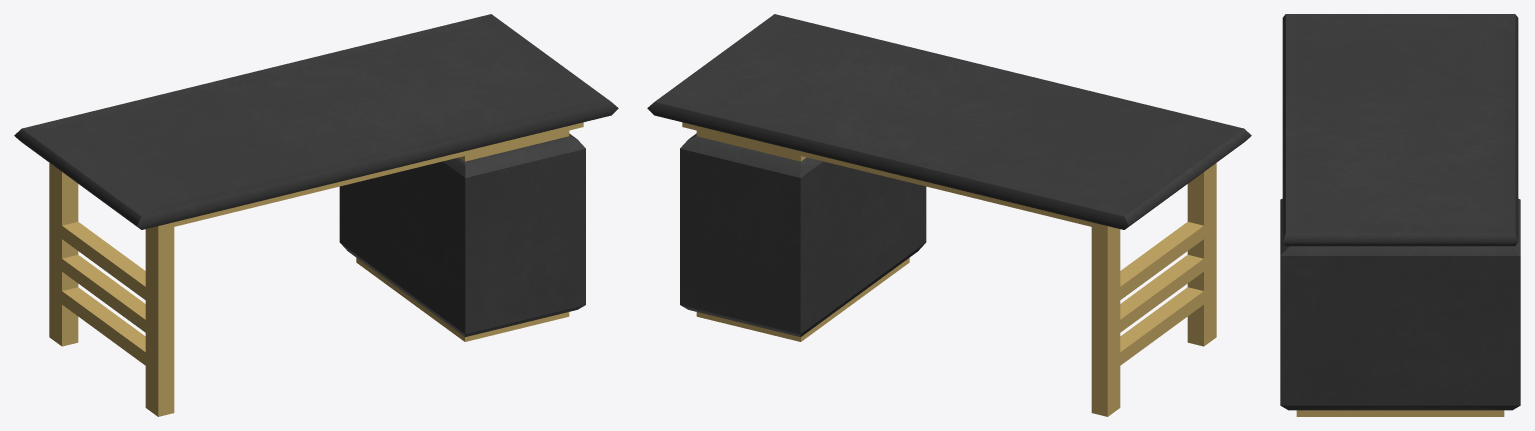
The model's file is DoctorTable.fbx.
3 renders of one model, left to right at view 1: azimuth 30°, elevation 25°; view 2: azimuth 150°, elevation 25°; view 3: azimuth 270°, elevation 25°, orthographic. The views are drawn at different scales.
Parts seen in each view (by area): view 1: pCube57; view 2: pCube57; view 3: pCube57.
Part boxes in pixels (box(x1,y1,x2,y2)): pCube57: box(14, 14, 618, 416); pCube57: box(647, 14, 1251, 416); pCube57: box(1280, 14, 1520, 416).
Bounding box in the file's own units: 2.52 × 1.05 × 1.14.
